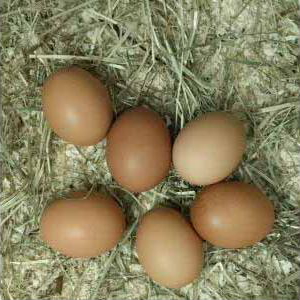egg: (133, 205, 206, 287), (171, 108, 244, 186), (36, 195, 127, 257), (191, 181, 276, 247), (42, 67, 113, 145), (107, 108, 171, 192)
